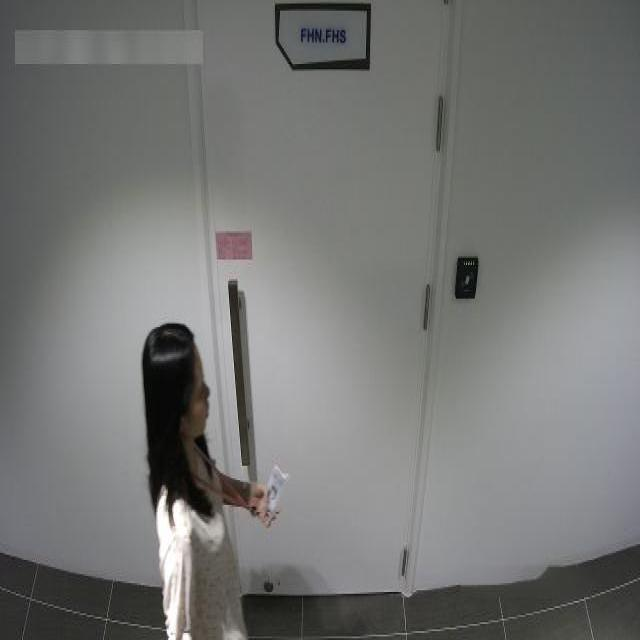bare_hand: (241, 478, 290, 540)
